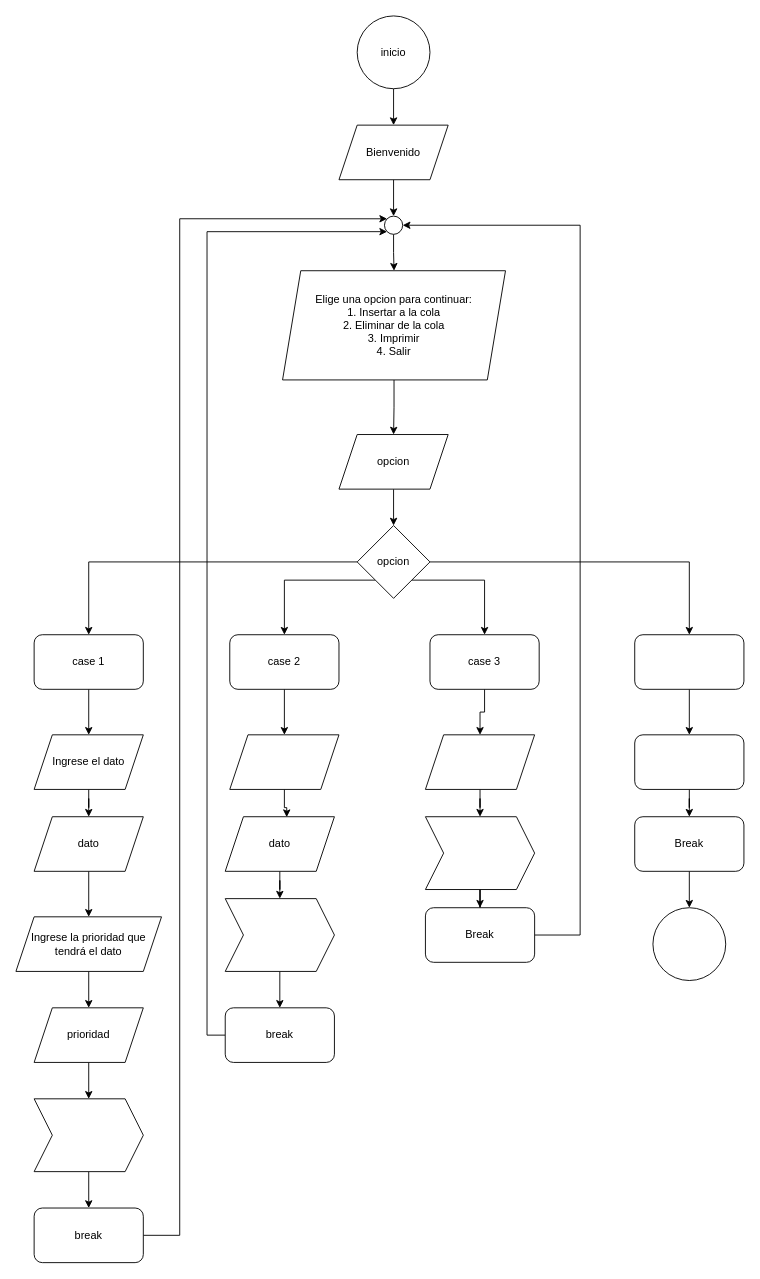
The diagram is 760 pixels wide and 1279 high, and some of its shapes have lost their labels. Here are the shapes that lost their labels. From the top down, the centre of each, then its label:
point 689,661: case 4
point 284,761: Ingrese el dato a eliminar
point 480,761: Imprimiendo cola
point 689,761: exit(1)
point 480,853: colaImprimir
point 279,934: colaAbandono(&cola, dato)
point 689,944: fin
point 88,1135: colaInsertar(&cola, dato, prioridad)
